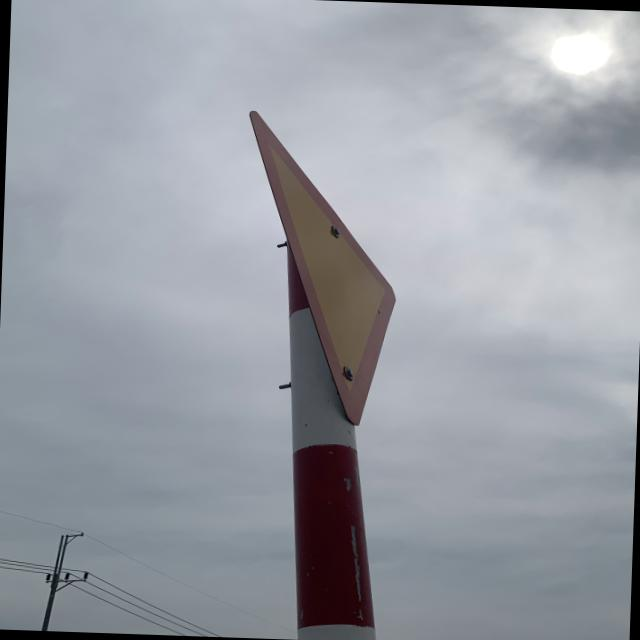Gioi_Han_Toc_Do_25: (236, 110, 408, 432)
